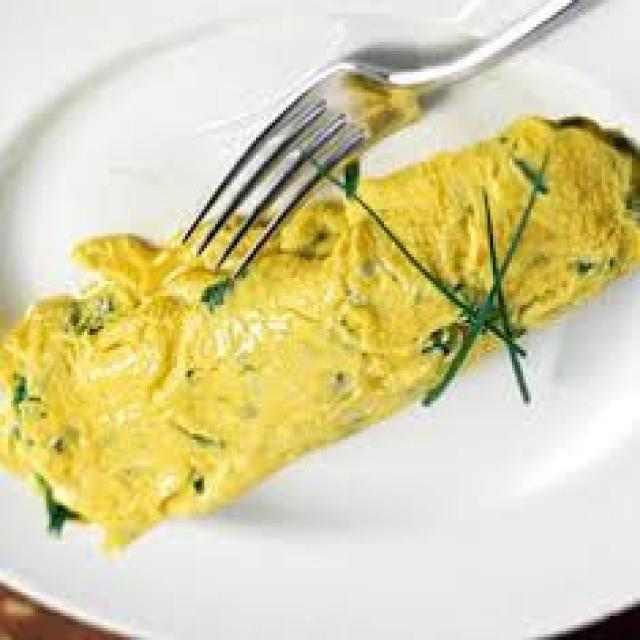telur_ayam_dadar: (0, 117, 637, 560)
